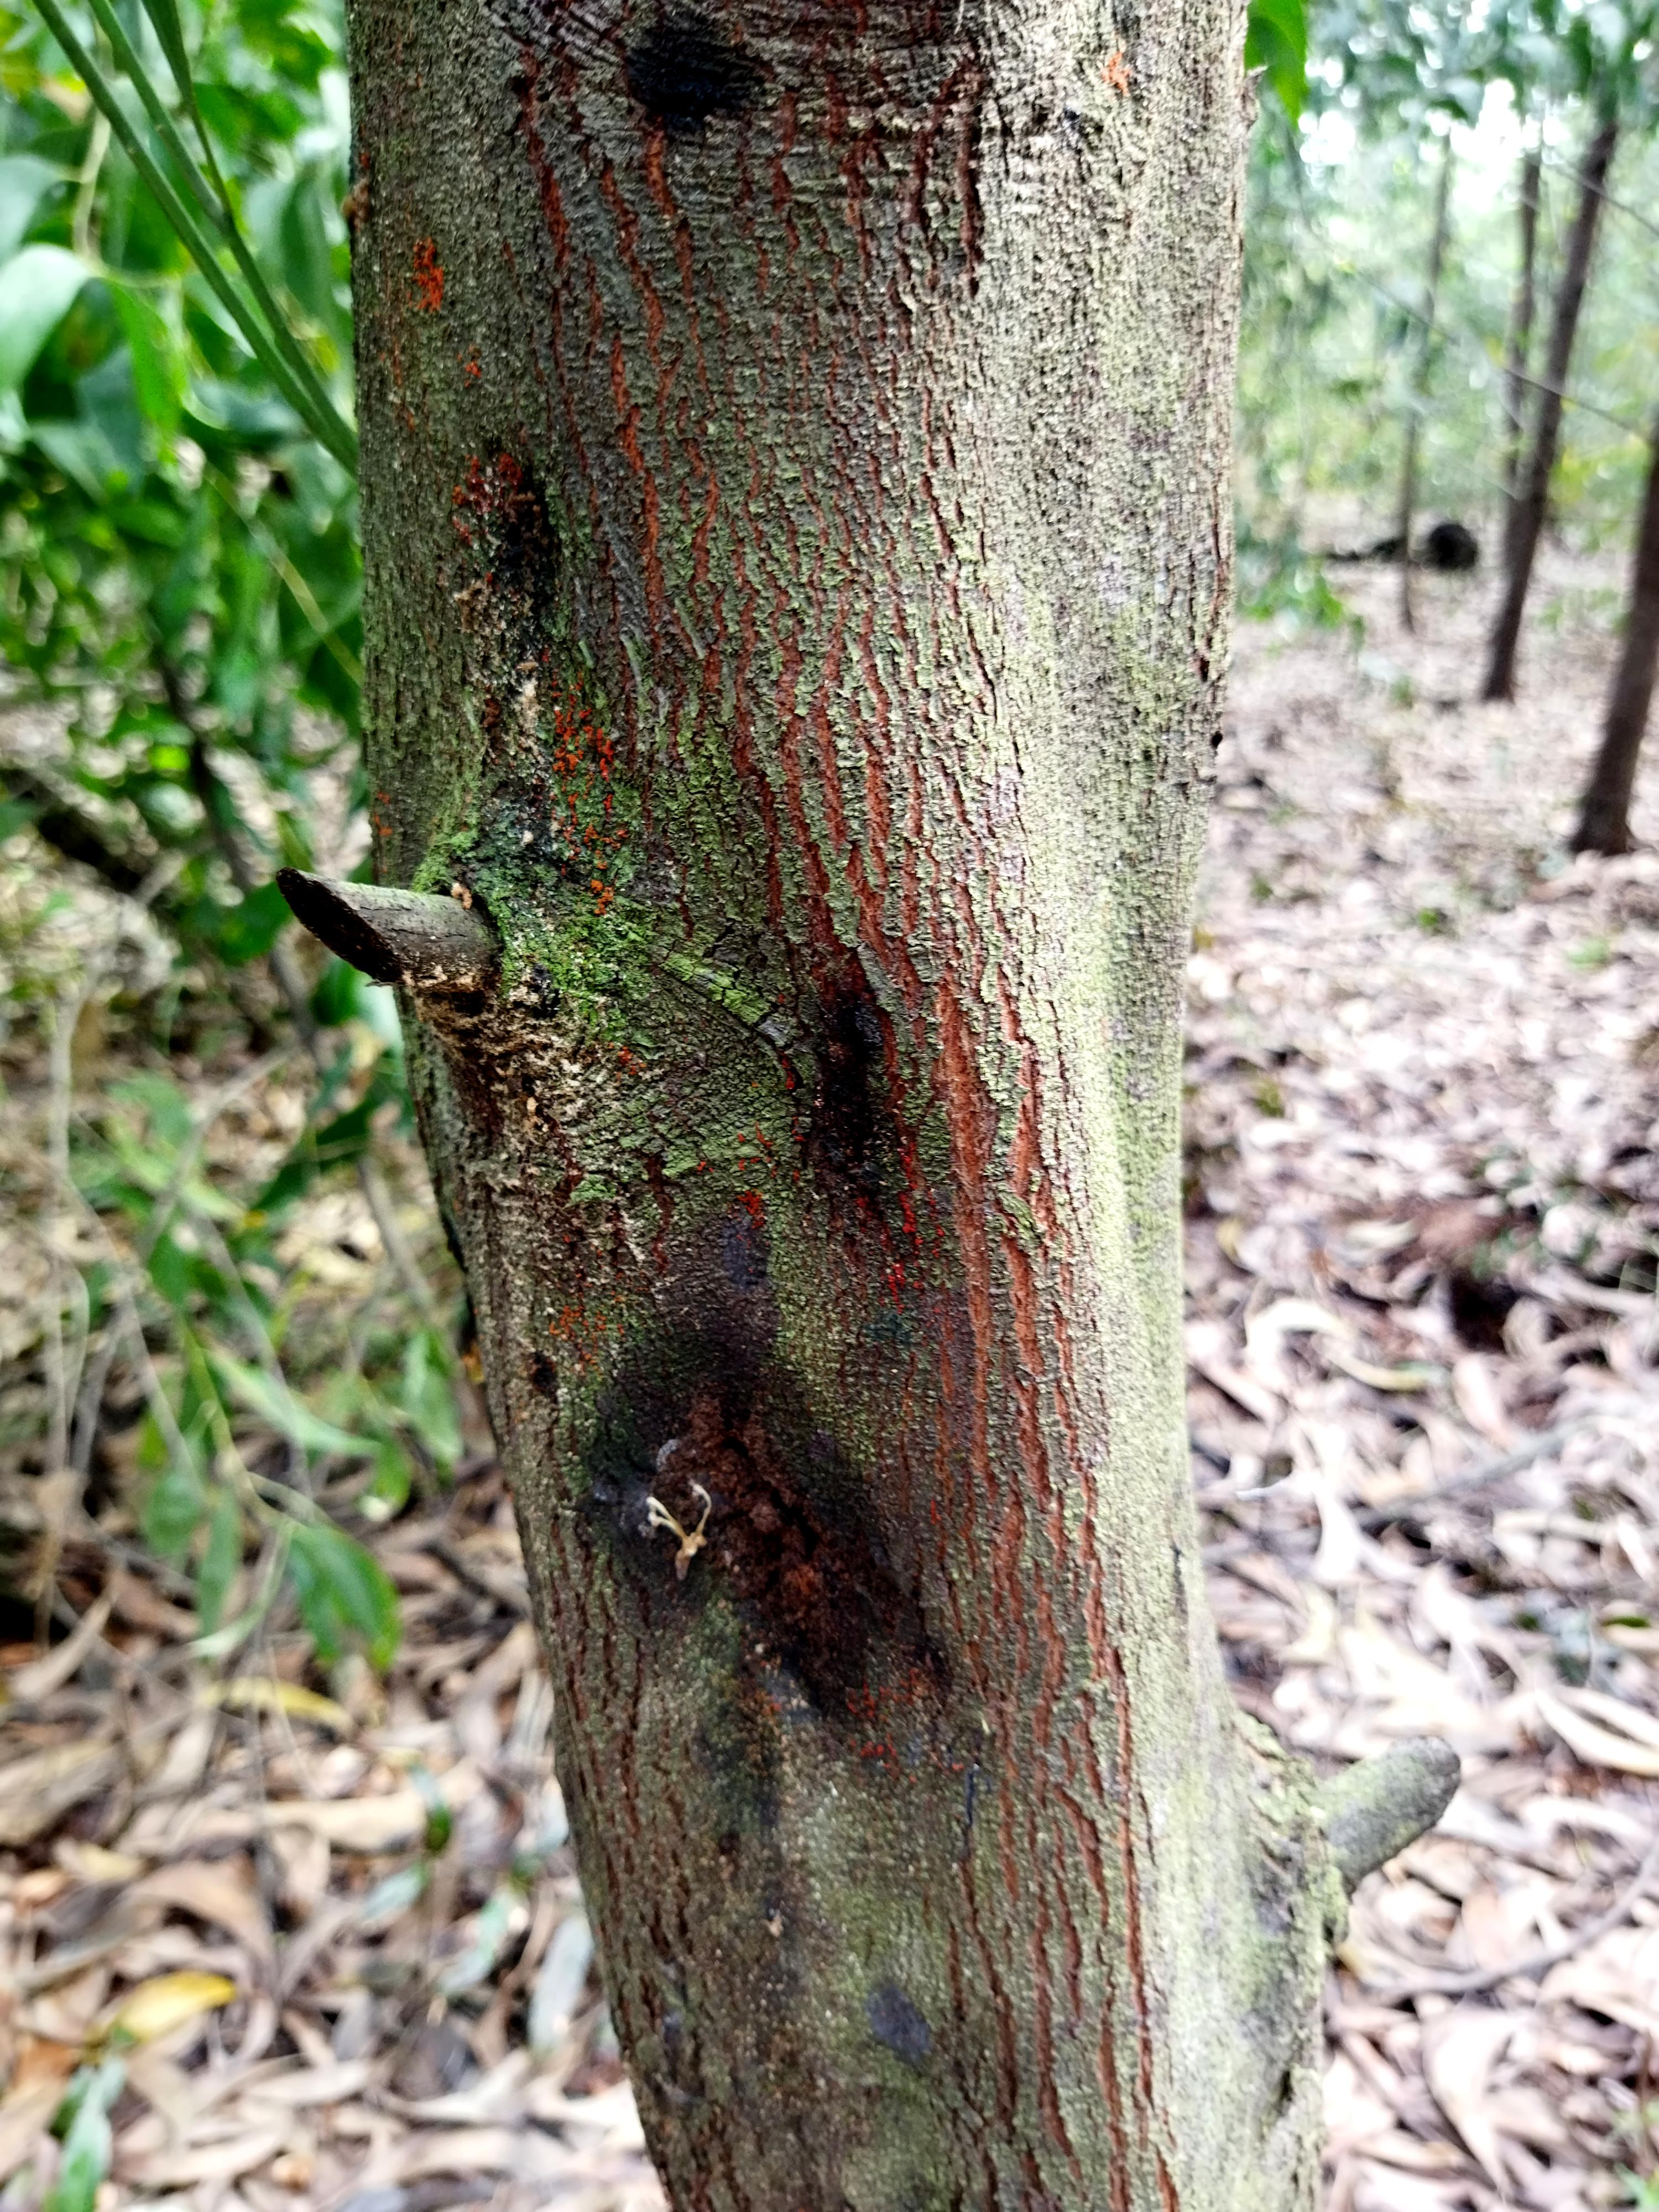Stem Borer: (765, 968, 1014, 1332), (631, 1390, 868, 1663), (610, 23, 819, 212)
